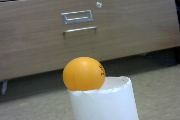PingPongBall: (63, 57, 105, 93)
